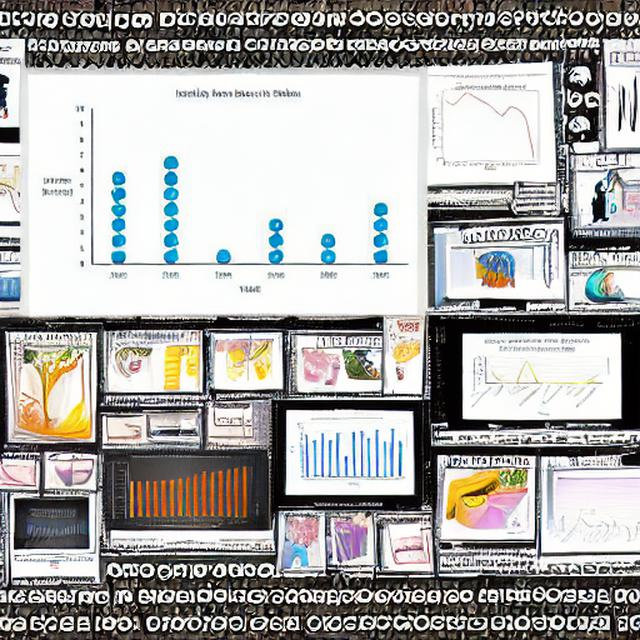Graph: (27, 78, 416, 306), (427, 79, 551, 172), (109, 453, 252, 531), (469, 335, 605, 417), (288, 414, 407, 489), (22, 510, 89, 549), (558, 509, 623, 549)
